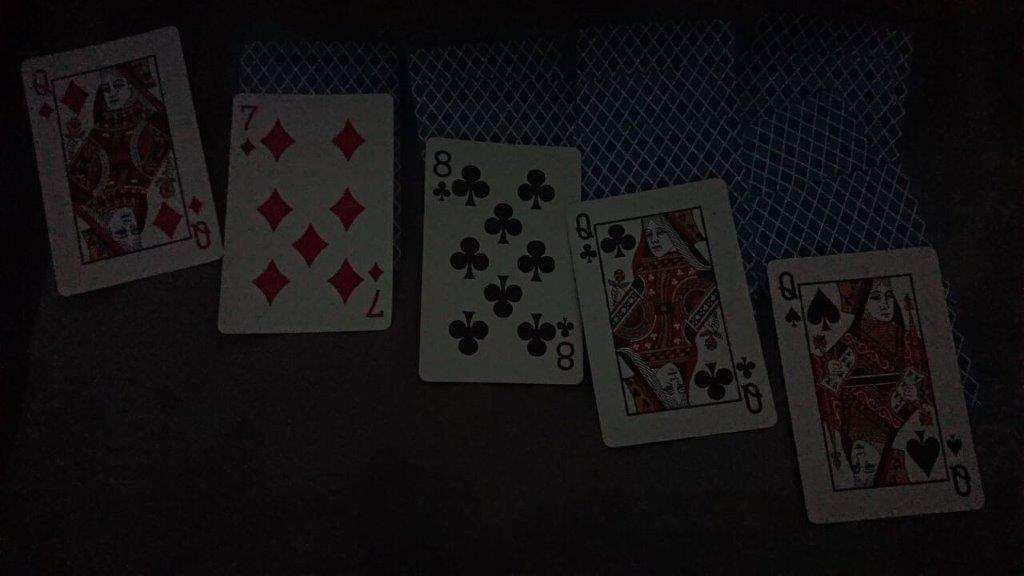7D: (234, 99, 269, 167)
8C: (426, 141, 460, 206)
BACK: (760, 164, 937, 245), (757, 89, 901, 165), (583, 113, 749, 176), (410, 78, 575, 137), (240, 38, 398, 94), (578, 59, 735, 114), (407, 32, 568, 80), (740, 13, 914, 53), (734, 52, 911, 91), (570, 19, 735, 59)
QC: (571, 208, 604, 267)
QD: (26, 62, 63, 126)
QS: (770, 263, 813, 332)
